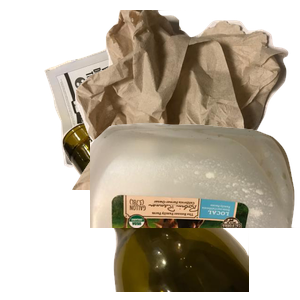glass: (60, 120, 300, 300)
paper: (42, 21, 249, 181)
plastic: (90, 120, 300, 300)
trash: (70, 10, 300, 190)
